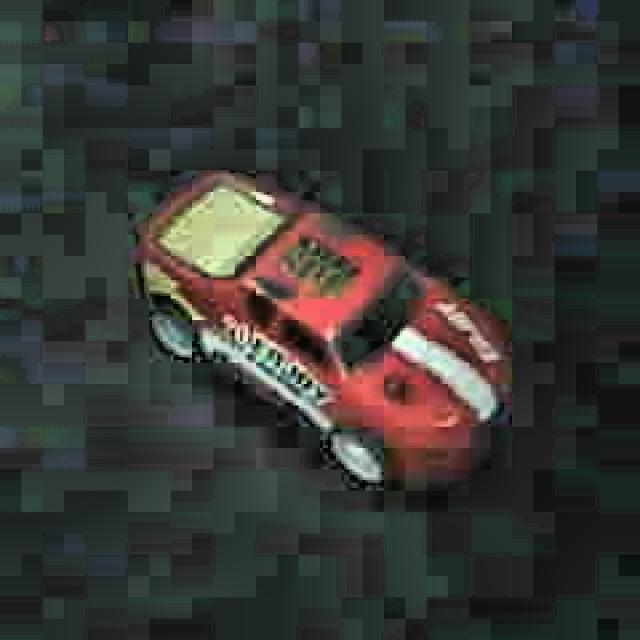car: (132, 159, 511, 502)
